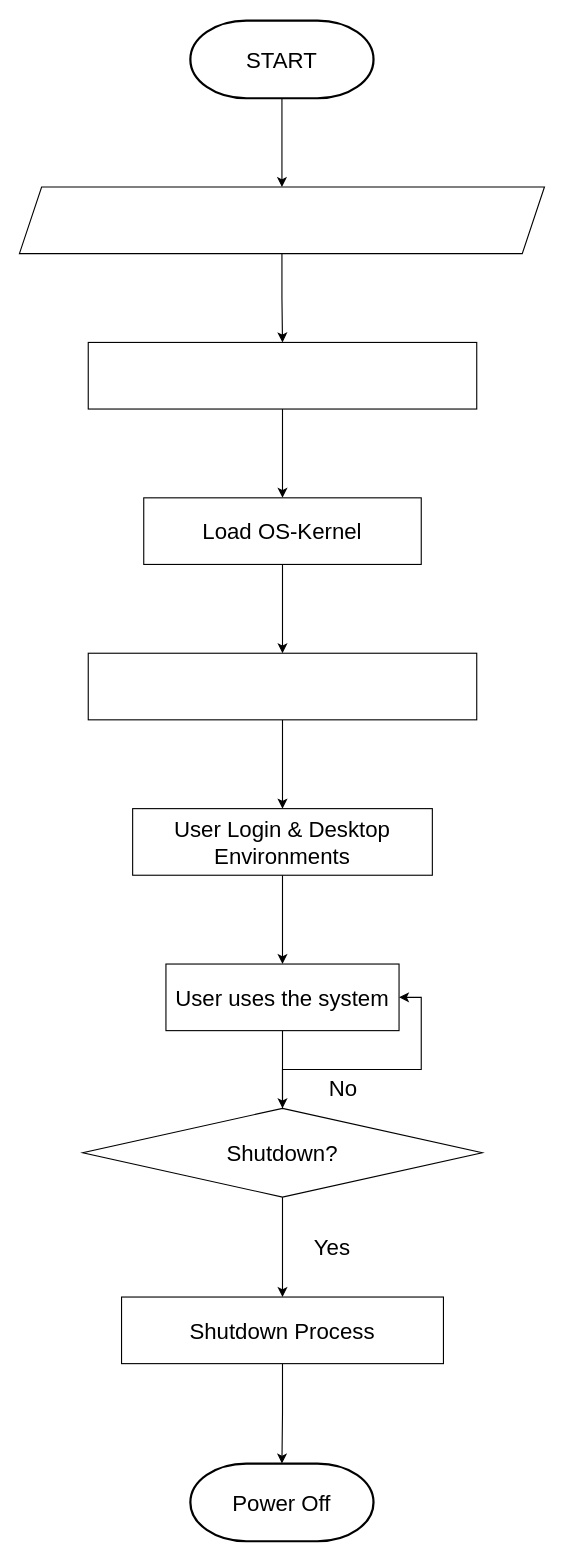
The diagram is 564 pixels wide and 1561 high, and some of its shapes have lost their labels. The shapes that lost their labels are listed below. From the top down, each one's centre as x and y in pixels, then its label:
At (281,220): "POST (Power-On Self Test)".
At (282,375): "Load Bootloader".
At (282,686): "Start Systems Services & Drivers".
